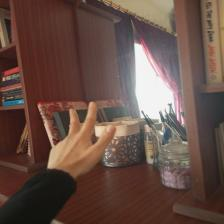three: (37, 96, 134, 185)
